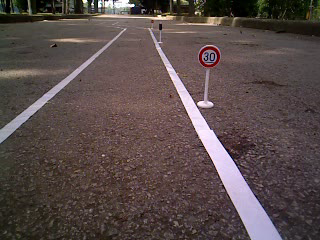limit 30: (196, 43, 224, 71)
